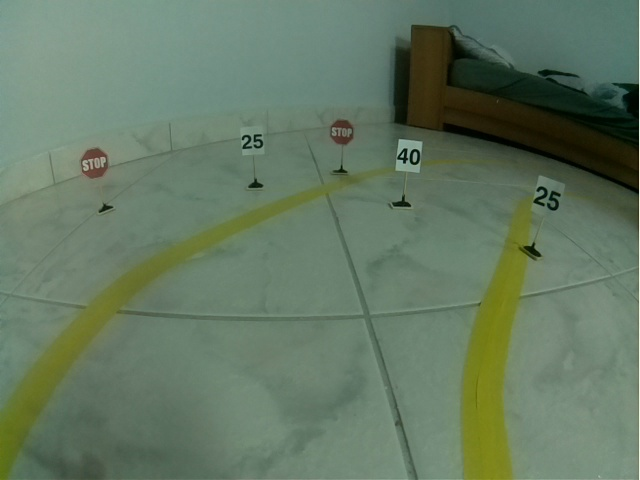Speed Limit 25: (532, 175, 564, 222), (241, 126, 265, 157)
Speed Limit 40: (395, 139, 423, 175)
Stop: (79, 147, 109, 180), (329, 119, 354, 146)
